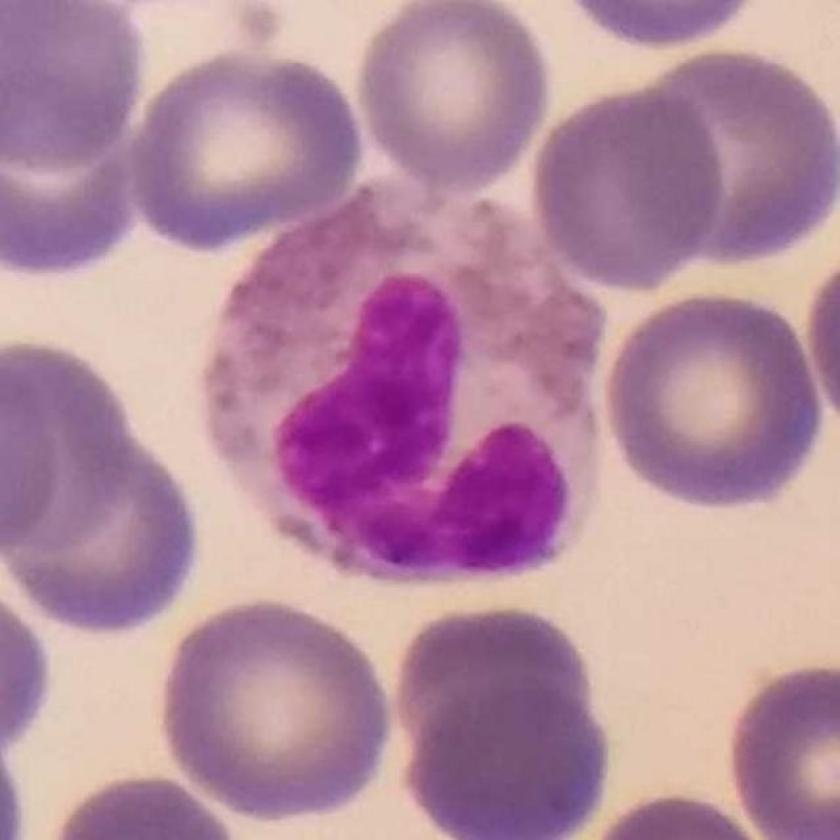eosinophil: (206, 165, 619, 584)
